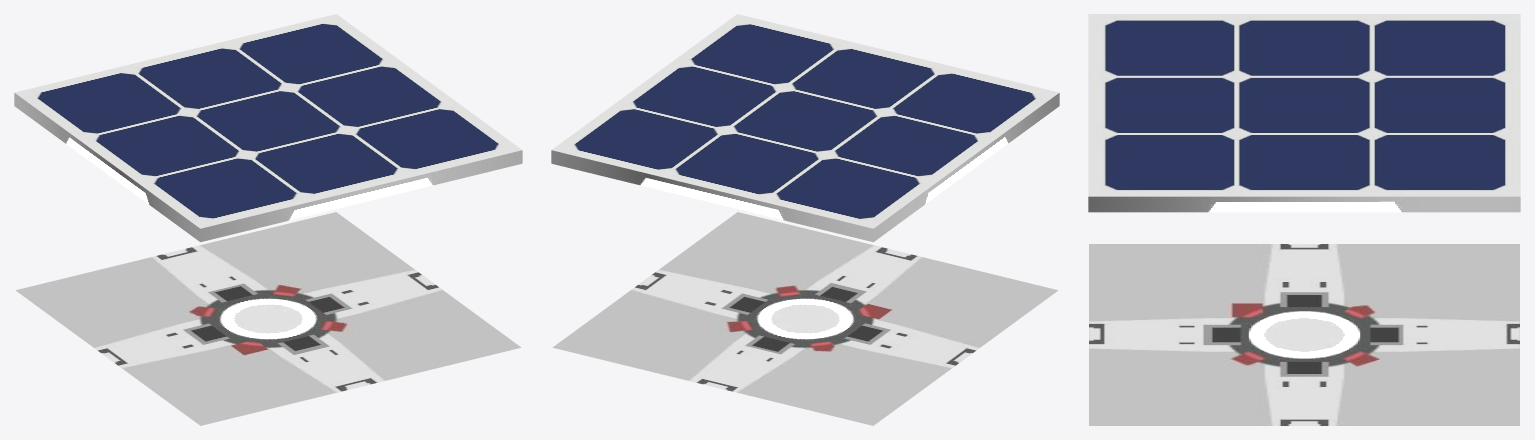
The picture shows the model from 3 angles, left to right: view 1: azimuth 30°, elevation 25°; view 2: azimuth 150°, elevation 25°; view 3: azimuth 270°, elevation 25°; orthographic projection. The views are drawn at different scales.
Parts seen in each view (by area): view 1: solar-panel-lod2; view 2: solar-panel-lod2; view 3: solar-panel-lod2.
Part boxes in pixels (x1,y1,x2,y2): solar-panel-lod2: [14, 14, 522, 425]; solar-panel-lod2: [551, 14, 1059, 425]; solar-panel-lod2: [1088, 14, 1520, 425].
Bounding box in the file's own units: 3.3 × 1.93 × 3.3.
1 material, 1 textured.
